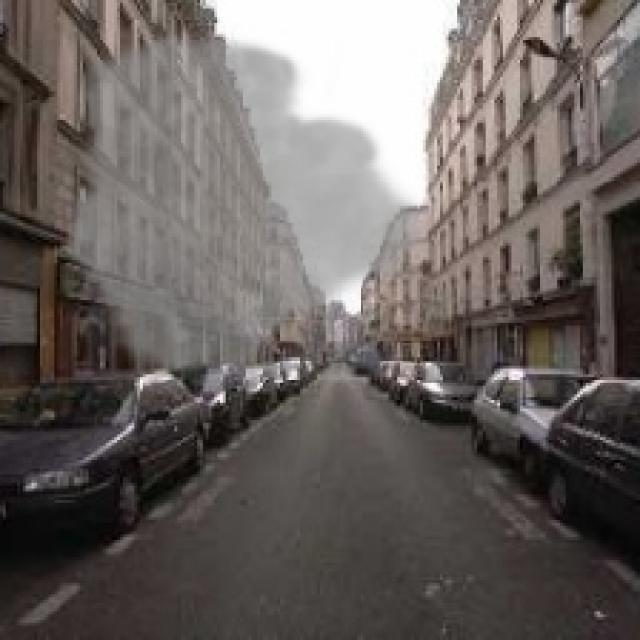Smoke: (62, 26, 434, 388)
